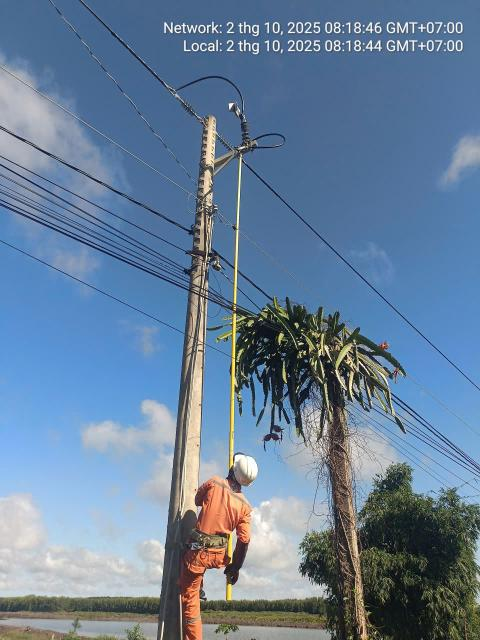gloves: (227, 537, 249, 586)
harness: (189, 527, 233, 556)
helmet: (230, 447, 261, 487)
